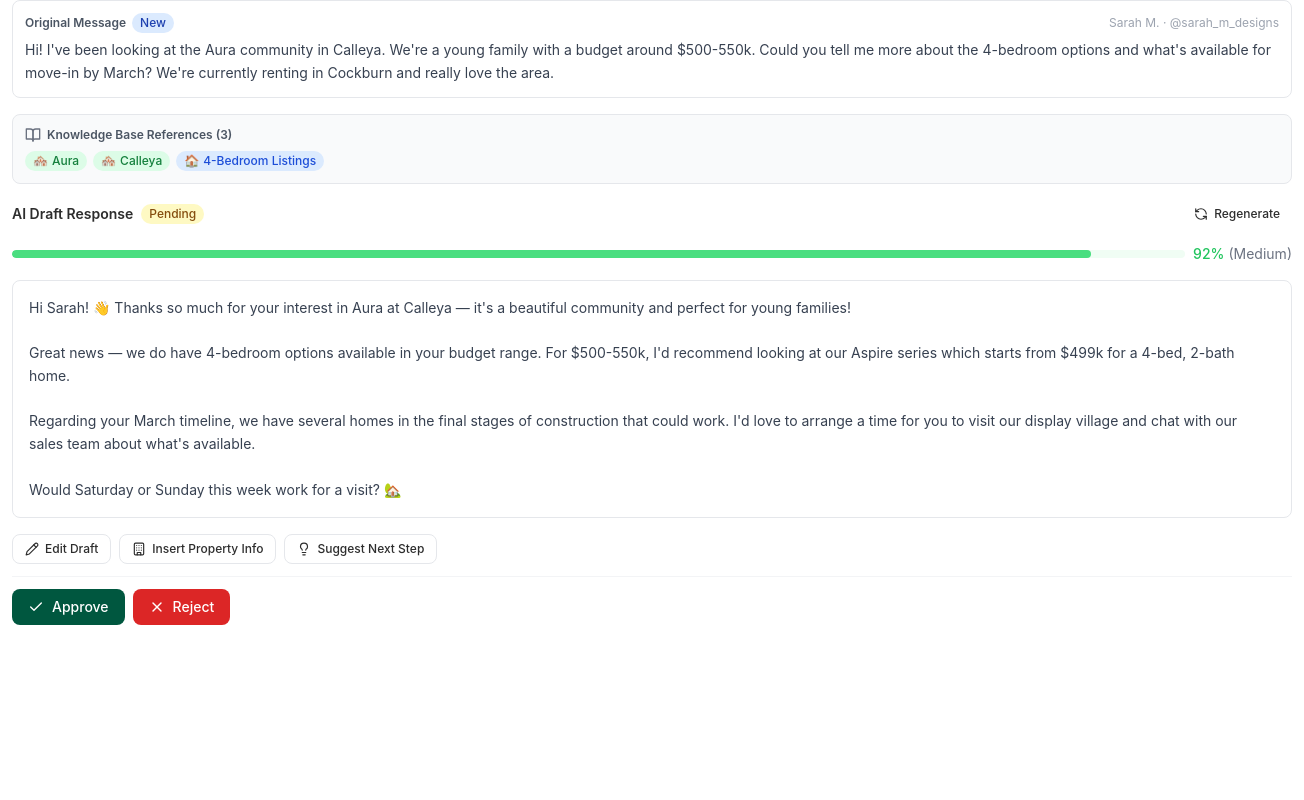
DraftComposer › editing › disables Save Edit when content is empty
Click the button "Edit Draft": x=62, y=549 [12, 534, 111, 564]
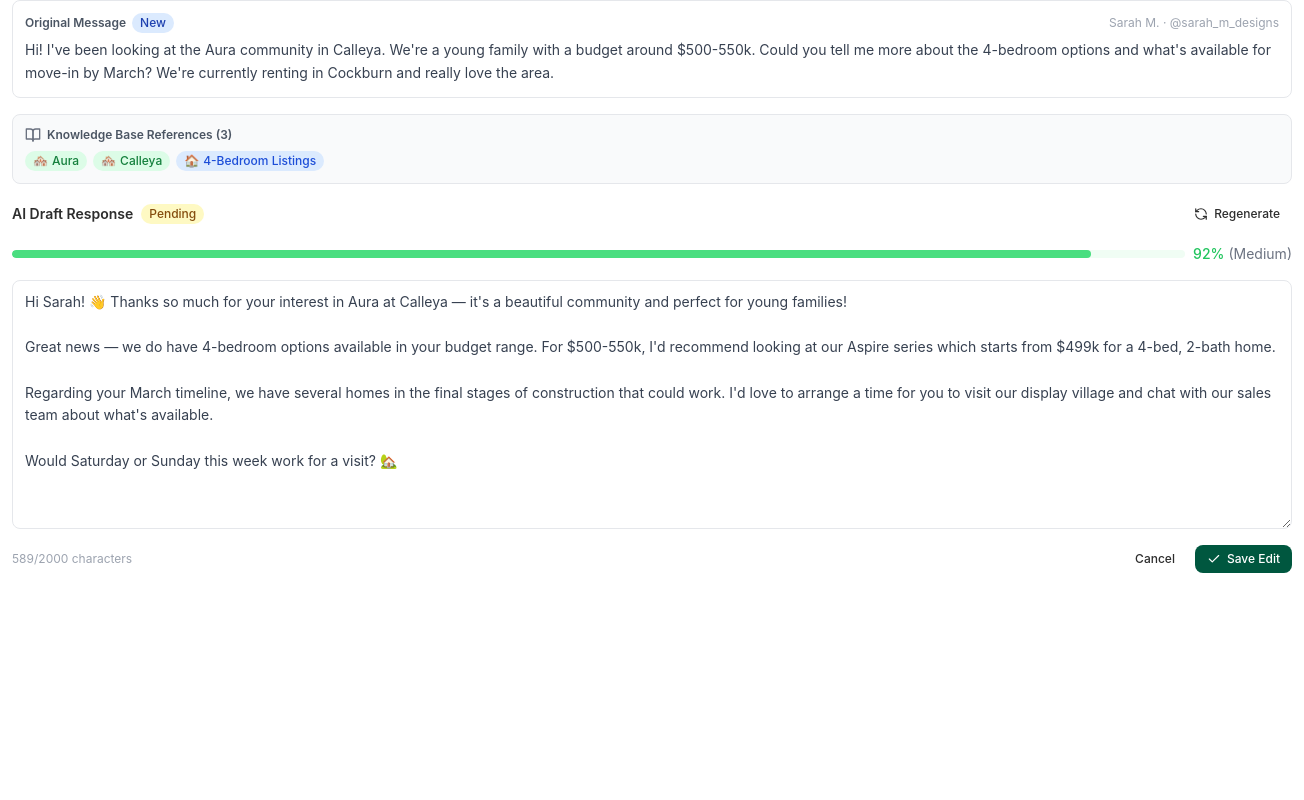
Clear the text box named "Edit draft content": x=652, y=404 [12, 280, 1292, 529]
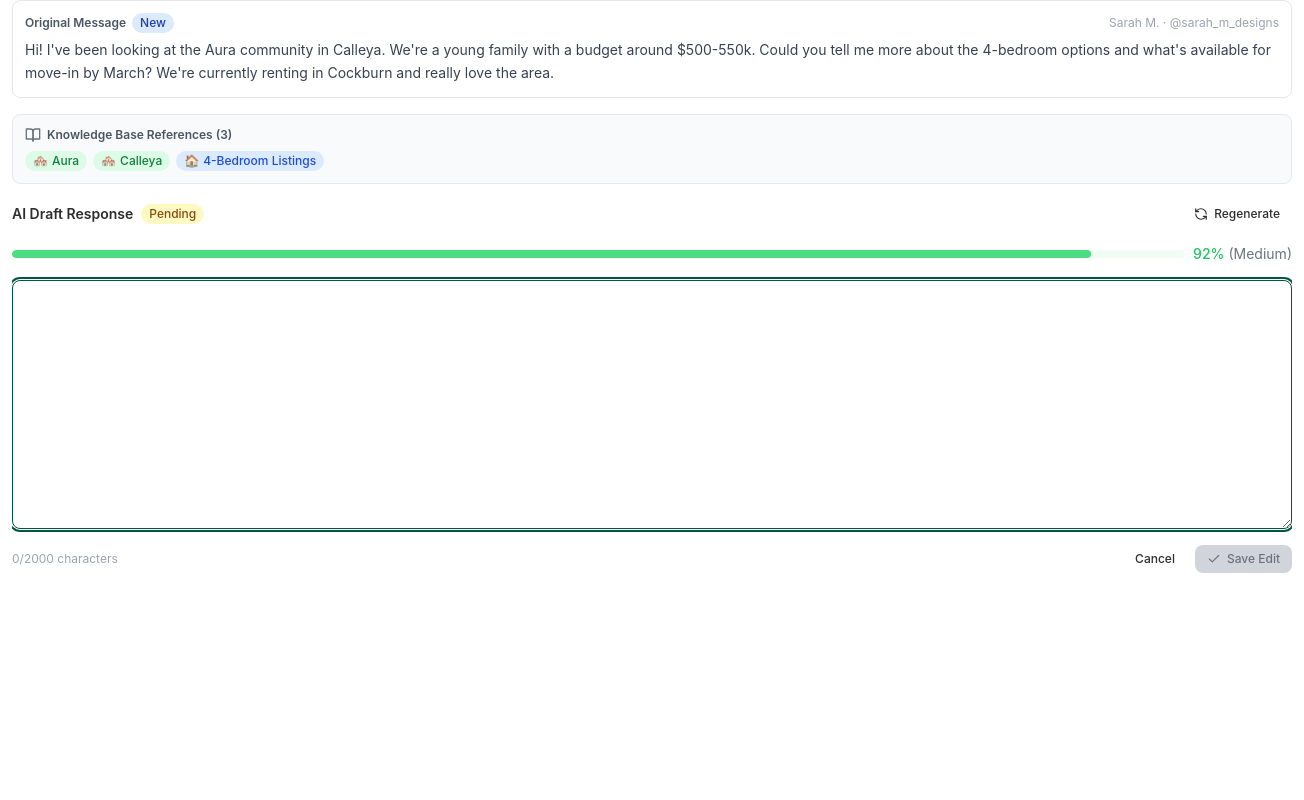
Expected: the button "Save Edit" is disabled, [1195, 545, 1292, 573]
